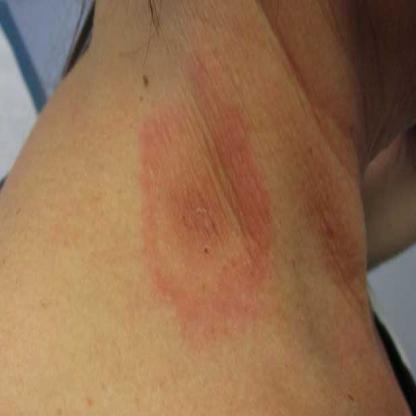Tick: (133, 44, 276, 352)
